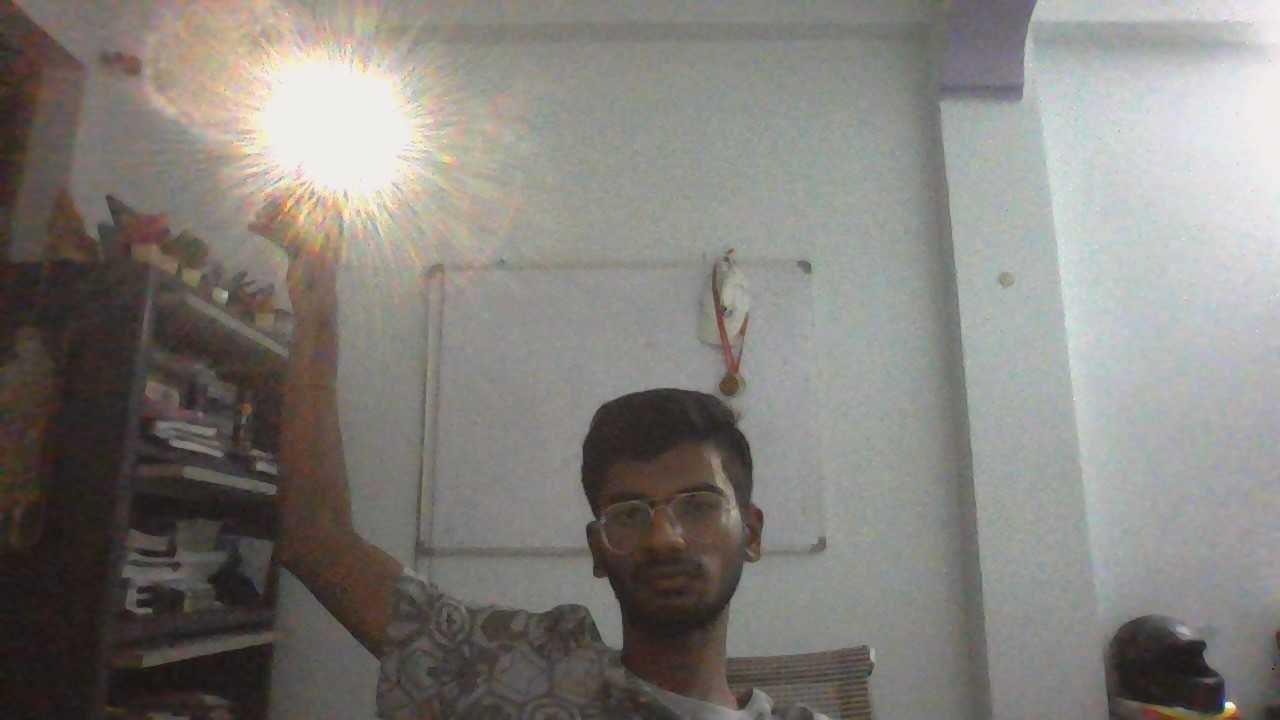Glare: (248, 45, 425, 213)
